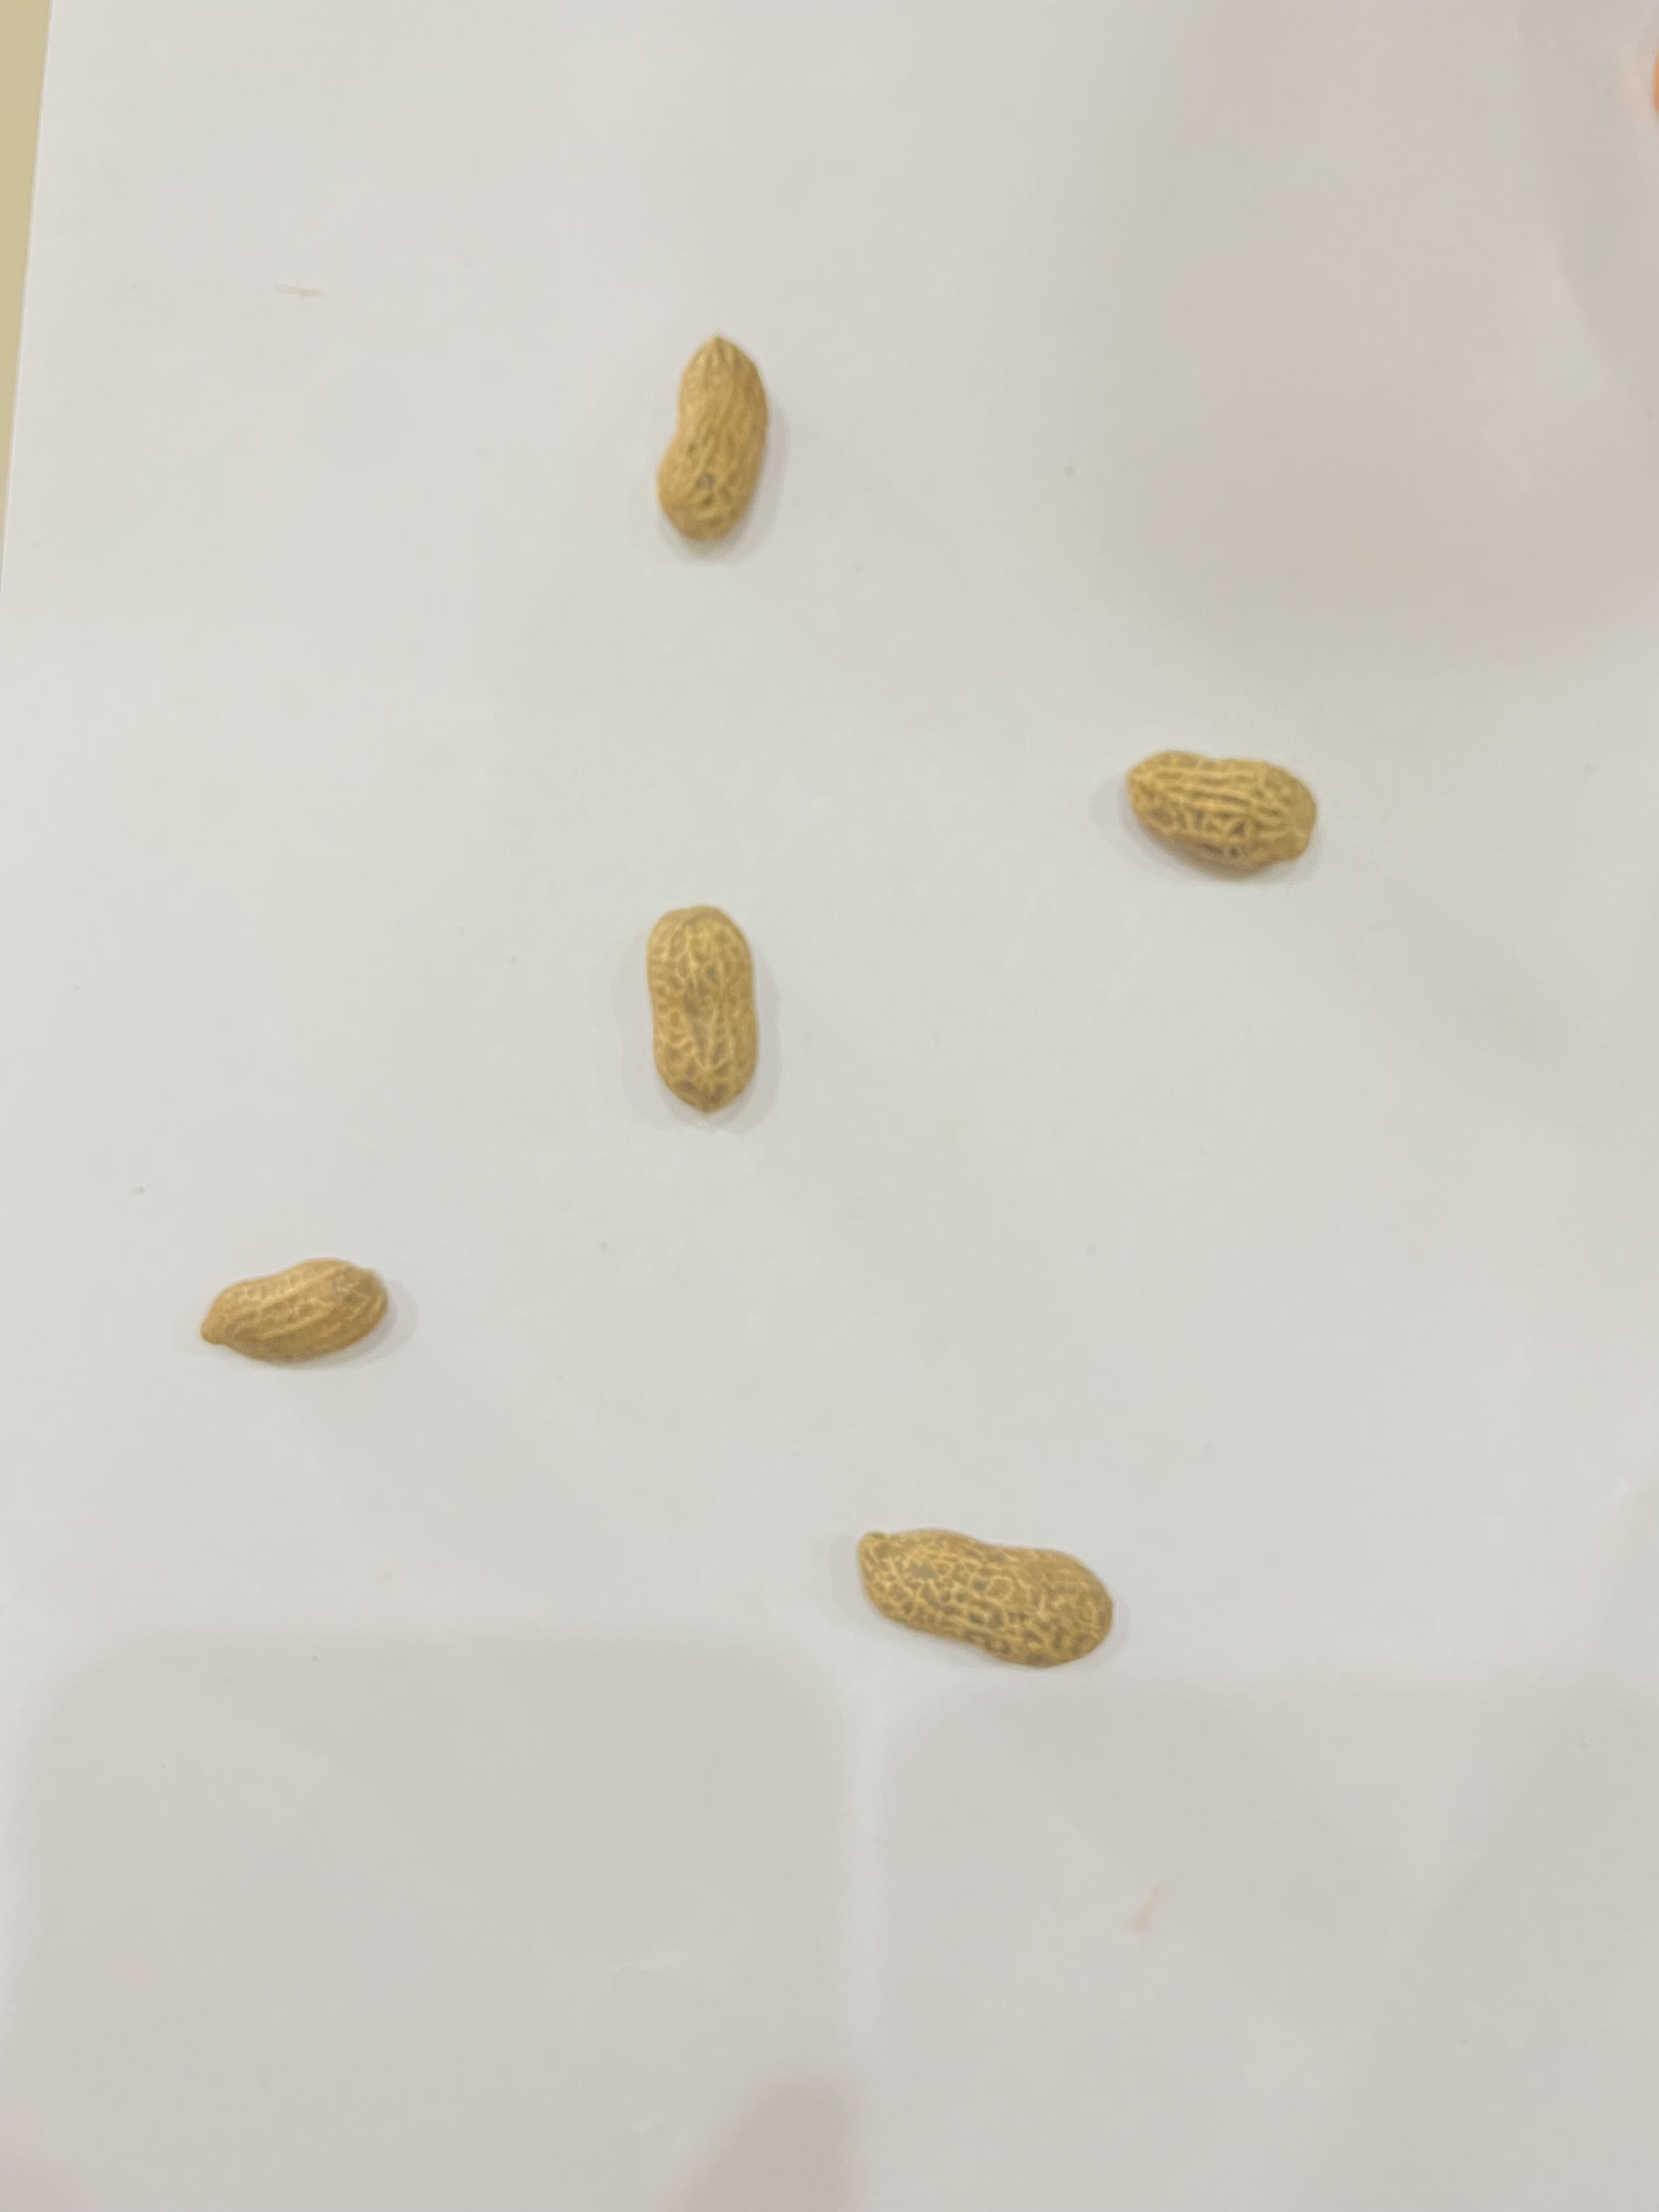kacang1: (159, 1251, 439, 1378), (1101, 745, 1345, 876)
kacang2: (821, 1474, 1183, 1683), (598, 883, 803, 1137), (657, 314, 777, 547)
